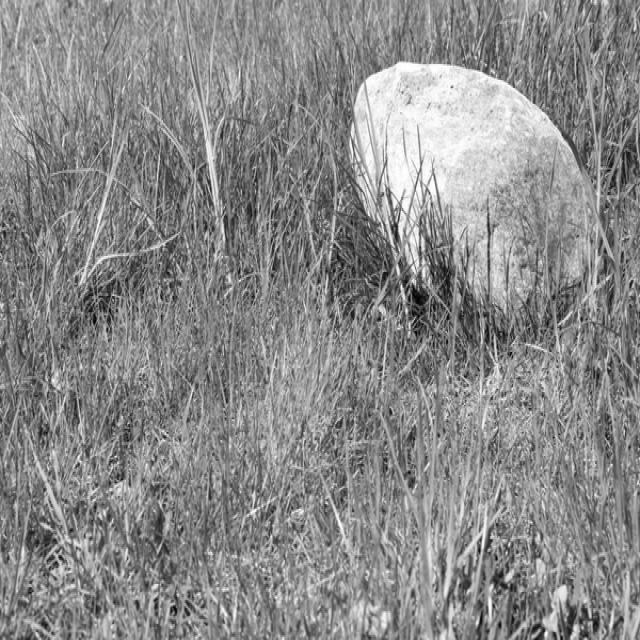Stone: (351, 61, 596, 319)
